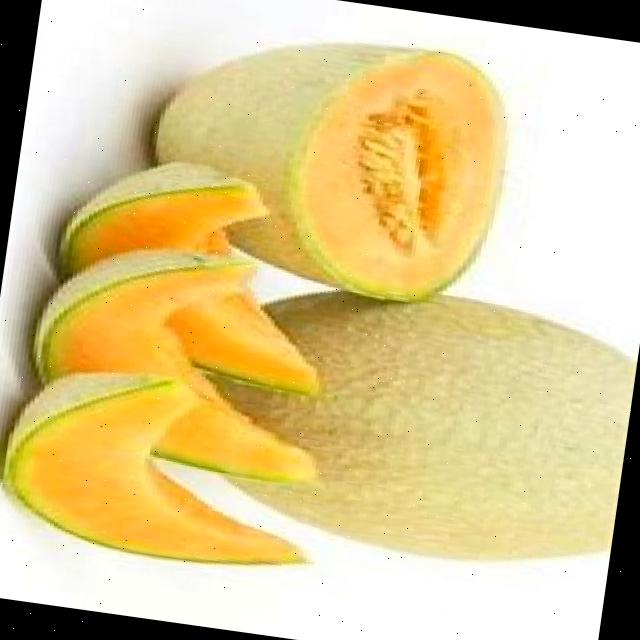Hami Melon: (180, 262, 640, 584), (134, 12, 518, 313)
